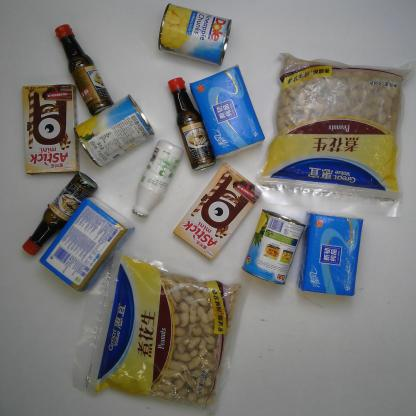Canned Food: (73, 93, 155, 168), (240, 207, 307, 286), (157, 2, 233, 67)
Dessert: (172, 162, 263, 262), (21, 83, 81, 176)
Dried Food: (71, 248, 246, 414), (253, 52, 414, 218)
Milk: (131, 138, 184, 220)
Seasoner: (21, 171, 99, 256), (54, 24, 114, 116), (167, 76, 217, 172)
Tissue: (37, 196, 136, 293), (188, 64, 266, 160), (295, 210, 366, 298)
